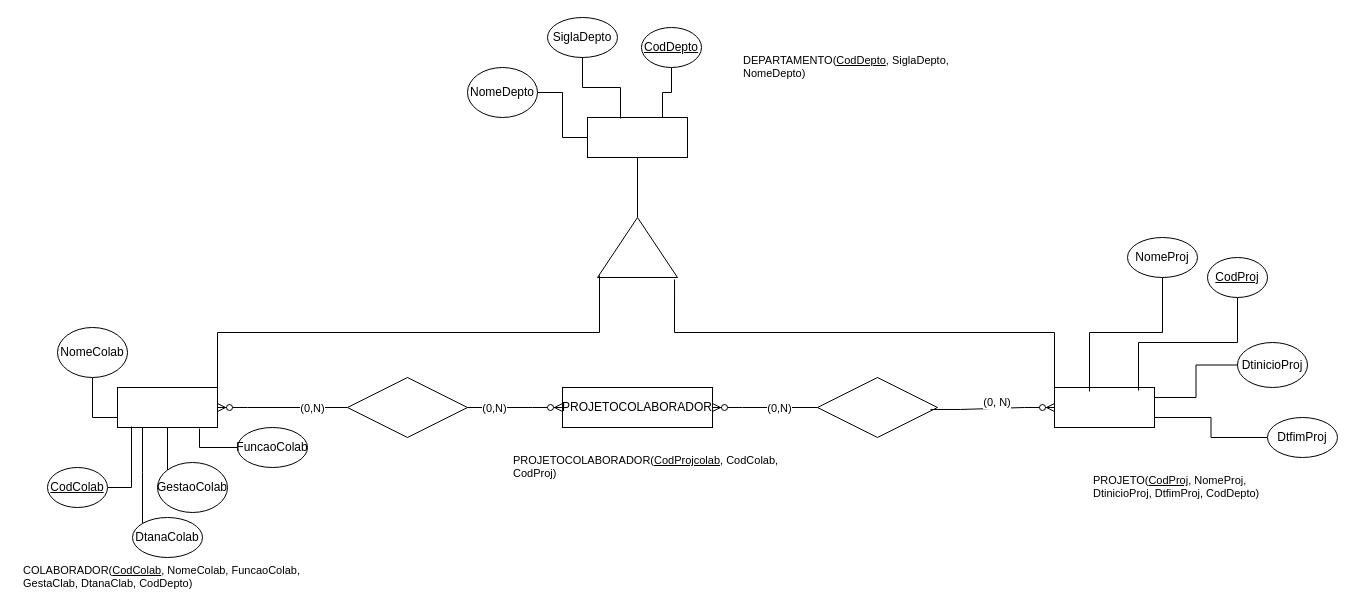
This 1355x608 diagram has some shape labels left out. The box of each missing label's shape, as (x1, y1, x2, y2) in pixels:
COLABORADOR: (116, 386, 218, 428)
DEPARTAMENTO: (586, 116, 688, 158)
Possui: (346, 376, 468, 438)
PROJETO: (1054, 386, 1154, 428)
Realiza: (816, 376, 938, 438)
